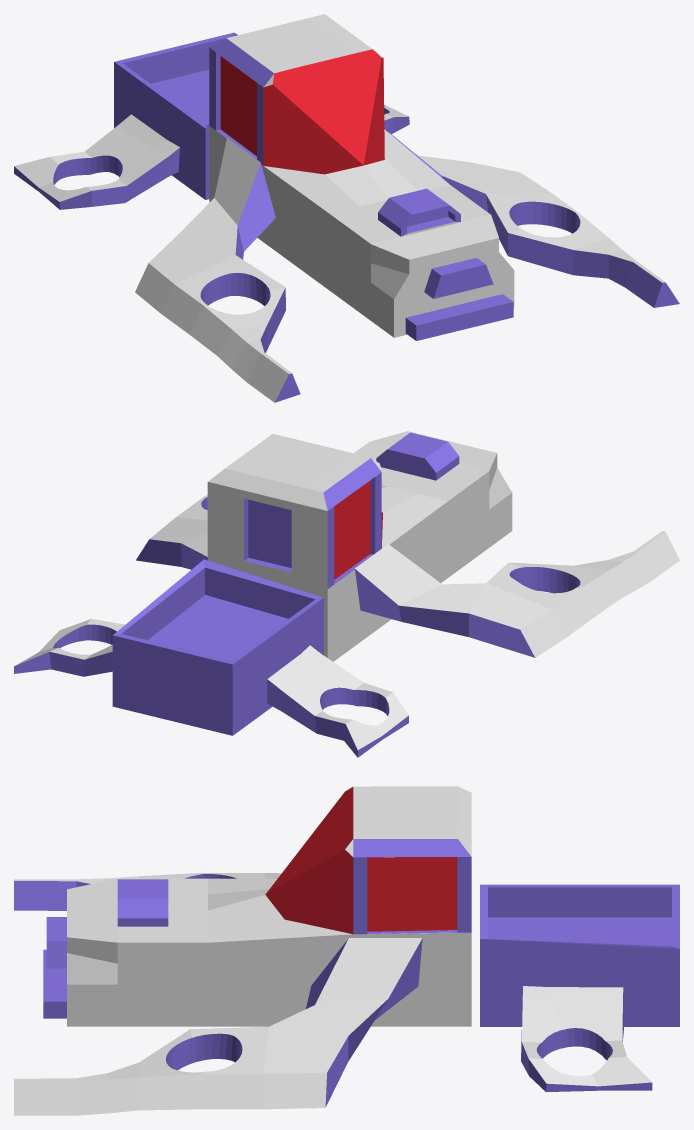
Rendered from car.fbx.
The picture shows the model from 3 angles, top to bottom: view 1: azimuth 30°, elevation 25°; view 2: azimuth 150°, elevation 25°; view 3: azimuth 270°, elevation 25°; orthographic projection. The views are drawn at different scales.
Visible parts, largest first — view 1: truck, wing_left.001, wing_left, backwing_left.001; view 2: truck, wing_left.001, backwing_left.001, backwing_left, wing_left; view 3: truck, wing_left, backwing_left, wing_left.001.
Boxes of the visible parts, <box> form: truck: <box>114,14,514,340</box>; wing_left.001: <box>135,138,300,402</box>; wing_left: <box>384,129,679,307</box>; backwing_left.001: <box>14,114,179,209</box>; truck: <box>112,431,512,735</box>; wing_left.001: <box>354,531,679,657</box>; backwing_left.001: <box>267,645,408,757</box>; backwing_left: <box>14,618,124,676</box>; wing_left: <box>136,494,207,569</box>; truck: <box>43,786,679,1026</box>; wing_left: <box>14,938,422,1115</box>; backwing_left: <box>521,986,652,1091</box>; wing_left.001: <box>14,873,281,910</box>.
Size of the model in its own units: 675 by 286 by 877.
